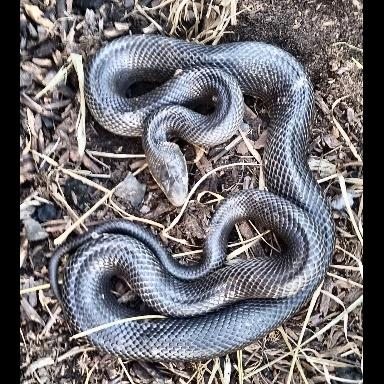snake: (48, 33, 336, 366)
